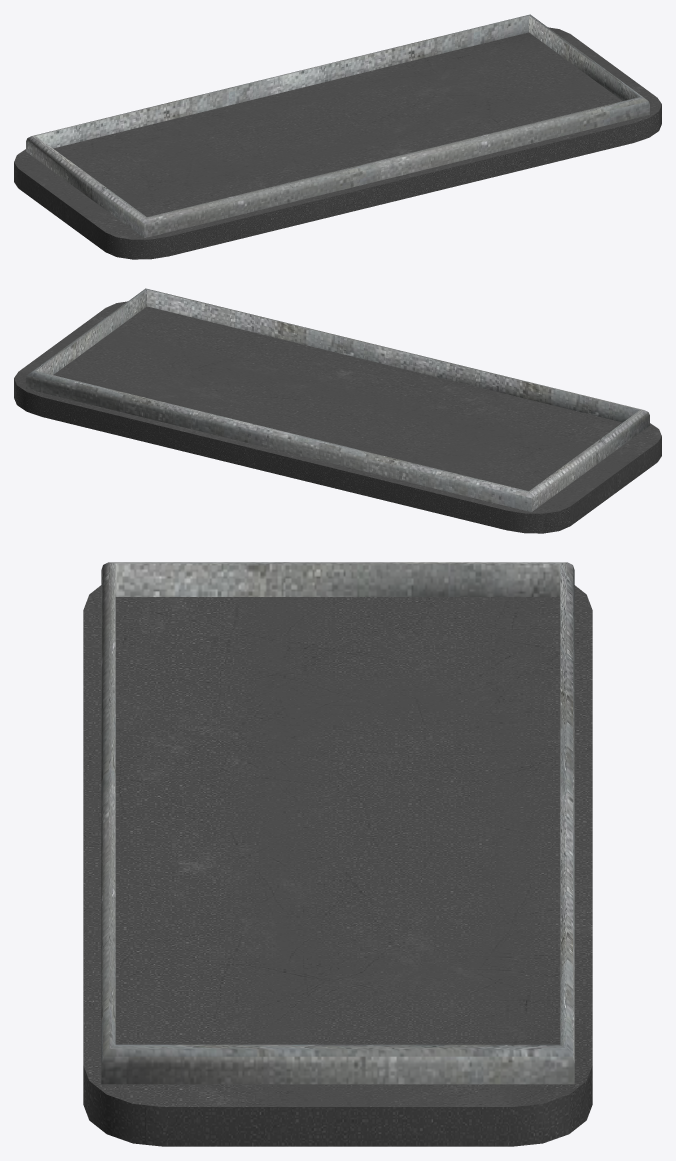
The model's file is F_Console_Panel_01 (1).fbx.
3 views of the same model, one above another, from view 1: azimuth 30°, elevation 25°; view 2: azimuth 150°, elevation 25°; view 3: azimuth 270°, elevation 25° (orthographic). The views are drawn at different scales.
Parts seen in each view (by area): view 1: F_Console_Panel_01; view 2: F_Console_Panel_01; view 3: F_Console_Panel_01.
Boxes of the visible parts, x1,y1,x2,y2 form: F_Console_Panel_01: [14, 14, 661, 259]; F_Console_Panel_01: [14, 288, 661, 533]; F_Console_Panel_01: [83, 562, 592, 1146].
Size of the model in its own units: 150 by 9.5 by 60.
Materials: 1 (1 with a texture image).
